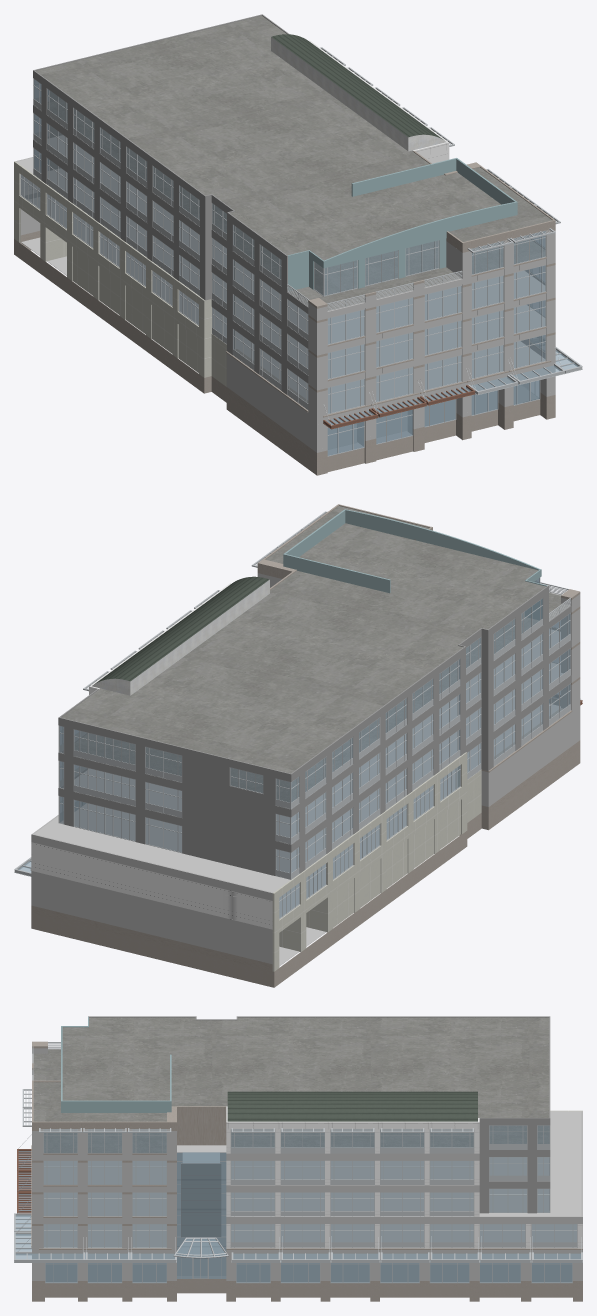
File: A23_Building10.fbx
3 views of the same model, one above another, from view 1: azimuth 30°, elevation 25°; view 2: azimuth 150°, elevation 25°; view 3: azimuth 270°, elevation 25° (orthographic). The views are drawn at different scales.
Parts seen in each view (by area): view 1: BD1610, BD1596, BD1606; view 2: BD1610, BD1596; view 3: BD1610, BD1596, BD1606.
Boxes of the visible parts, x1,y1,x2,y2 form: BD1610: (14,14,582,475); BD1596: (21,79,578,455); BD1606: (328,381,539,455); BD1610: (14,504,582,987); BD1596: (18,578,570,918); BD1610: (14,1016,582,1301); BD1596: (15,1125,580,1282); BD1606: (45,1153,572,1282).
Bounding box in the file's own units: 35.1 × 26.78 × 71.76.
